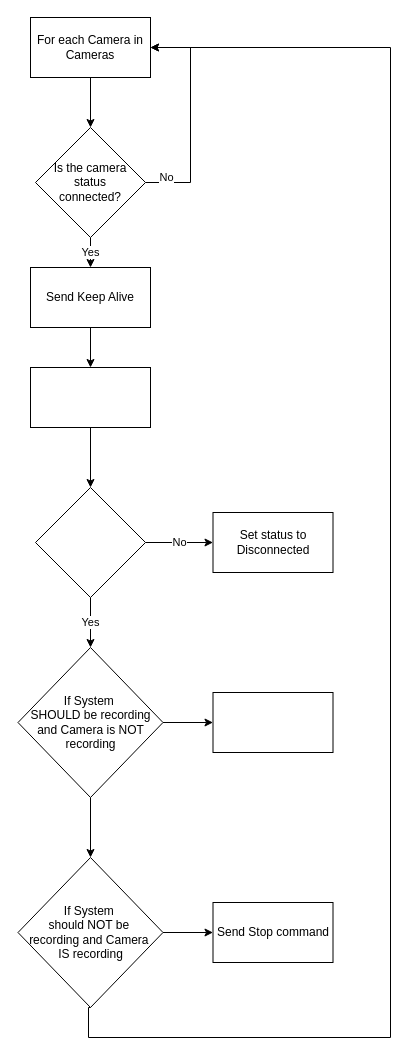
The diagram is 416 pixels wide and 1063 high, and some of its shapes have lost their labels. The shapes that lost their labels are listed below. From the top down, each one's box as (x1, y1, x2, y2) in pixels, then its label:
(30, 366, 150, 428): Request status update
(34, 486, 146, 598): Has the camera responded recently?
(212, 692, 333, 752): Send Start command
